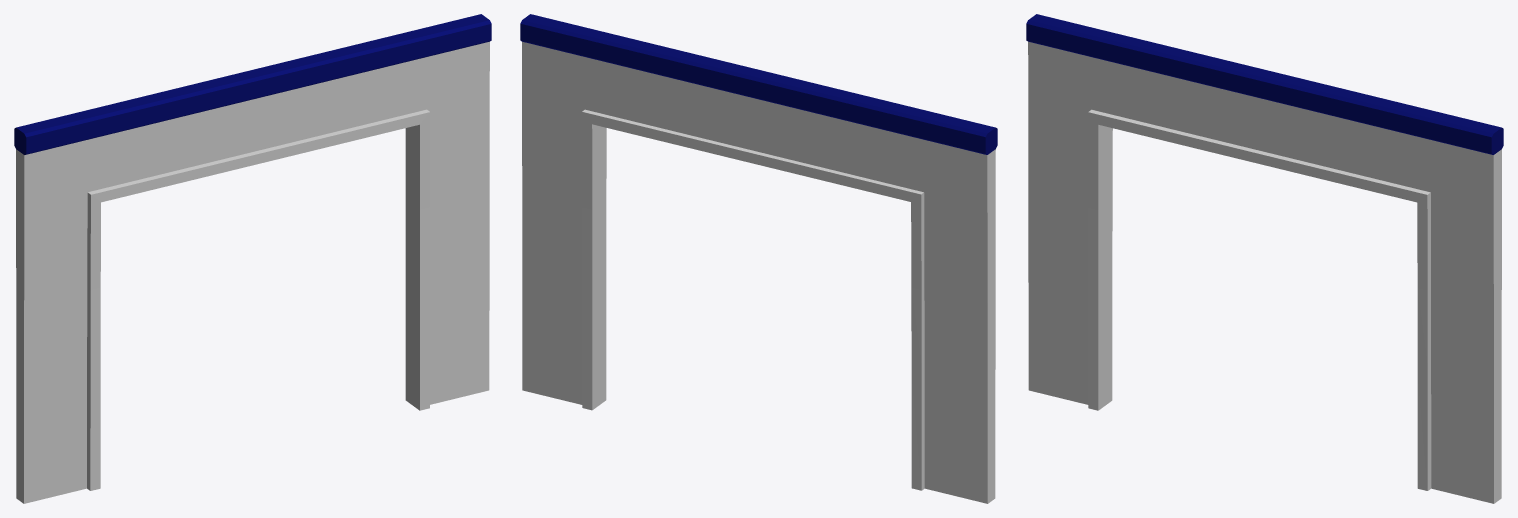
The model's file is wall_26.fbx.
The picture shows the model from 3 angles, left to right: view 1: azimuth 30°, elevation 25°; view 2: azimuth 150°, elevation 25°; view 3: azimuth 330°, elevation 25°; orthographic projection.
Visible parts, largest first — view 1: WALL_4.010; view 2: WALL_4.010; view 3: WALL_4.010.
Boxes of the visible parts, x1=… form: WALL_4.010: x1=14, y1=14, x2=491, y2=503; WALL_4.010: x1=520, y1=14, x2=997, y2=503; WALL_4.010: x1=1026, y1=14, x2=1503, y2=503.
Size of the model in its own units: 6.34 by 4.83 by 0.3452.
